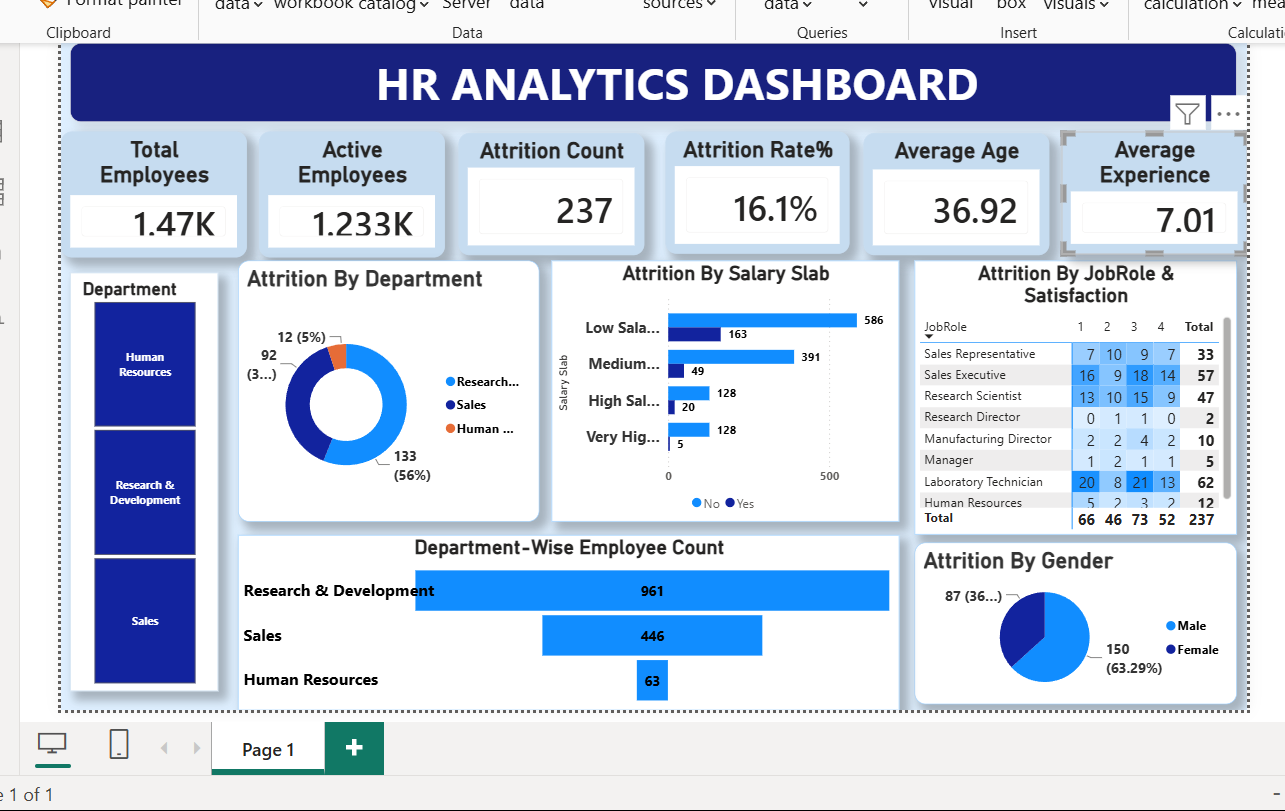

What the dashboard file says about the page in this screenshot:
{"tool":"powerbi","page":{"name":"Page 1","canvas":[1280,720],"ordinal":0},"visuals":[{"type":"textbox","box":[10,0,1259,85],"z":0},{"type":"cardVisual","title":"Total Employees","fields":{"Data":["CountNonNull(HR_Project_Power BI.EmployeeNumber)"]},"box":[0,94.8,200.8,135.7],"z":1000},{"type":"cardVisual","title":"Active Employees","fields":{"Data":["CountNonNull(HR_Project_Power BI.EmployeeCount)"]},"box":[213.9,94.8,200.8,135.7],"z":2000},{"type":"cardVisual","title":"Attrition Count","fields":{"Data":["Sum(HR_Project_Power BI.AttritionCount)"]},"box":[438.9,98.6,200.8,132],"z":3000},{"type":"cardVisual","title":"Attrition Rate%","fields":{"Data":["HR_Project_Power BI.Attrition Rate %"]},"box":[652.7,100.4,199,132],"z":4000},{"type":"cardVisual","title":"Average Age","fields":{"Data":["Avg(HR_Project_Power BI.Age)"]},"box":[866.6,96.7,200.8,132],"z":5000},{"type":"cardVisual","title":"Average Experience","fields":{"Data":["Avg(HR_Project_Power BI.YearsAtCompany)"]},"box":[1078.6,96.7,200.8,132],"z":6000},{"type":"donutChart","title":"Attrition By Department","fields":{"Category":["HR_Project_Power BI.Department"],"Y":["Sum(HR_Project_Power BI.AttritionCount)"]},"box":[191.1,234.8,325.5,281.7],"z":7000},{"type":"clusteredBarChart","title":"Attrition By Salary Slab","fields":{"Category":["HR_Project_Power BI.Salary Slab"],"Y":["CountNonNull(HR_Project_Power BI.EmployeeNumber)"],"Series":["HR_Project_Power BI.Attrition"]},"box":[529.5,234.8,375.7,281.7],"z":8000},{"type":"pivotTable","title":"Attrition By JobRole & Satisfaction","fields":{"Rows":["HR_Project_Power BI.JobRole"],"Values":["Sum(HR_Project_Power BI.AttritionCount)"],"Columns":["HR_Project_Power BI.JobSatisfaction"]},"box":[921.3,234.8,348.1,296.3],"z":9000},{"type":"pieChart","title":"Attrition By Gender","fields":{"Category":["HR_Project_Power BI.Gender"],"Y":["Sum(HR_Project_Power BI.AttritionCount)"]},"box":[921.3,539.2,348.1,174.9],"z":10000},{"type":"funnel","title":"Department-Wise Employee Count","fields":{"Category":["HR_Project_Power BI.Department"],"Y":["CountNonNull(HR_Project_Power BI.EmployeeNumber)"]},"box":[191.1,531.1,714.1,189.4],"z":11000},{"type":"slicer","fields":{"Values":["HR_Project_Power BI.Department"]},"box":[9.7,247.7,160.3,451.8],"z":12000}]}

Visuals, with their boxes on the page's 1280x720 design canvas (x1, y1, x2, y2). These are canvas units, not pixel positions in the 1285x811 screenshot, which may show the page scaled, cropped or inside an application window:
textbox: [10, 0, 1269, 85]
"Total Employees" cardVisual: [0, 95, 201, 230]
"Active Employees" cardVisual: [214, 95, 415, 230]
"Attrition Count" cardVisual: [439, 99, 640, 231]
"Attrition Rate%" cardVisual: [653, 100, 852, 232]
"Average Age" cardVisual: [867, 97, 1067, 229]
"Average Experience" cardVisual: [1079, 97, 1279, 229]
"Attrition By Department" donutChart: [191, 235, 517, 516]
"Attrition By Salary Slab" clusteredBarChart: [530, 235, 905, 516]
"Attrition By JobRole & Satisfaction" pivotTable: [921, 235, 1269, 531]
"Attrition By Gender" pieChart: [921, 539, 1269, 714]
"Department-Wise Employee Count" funnel: [191, 531, 905, 720]
slicer - HR_Project_Power BI.Department: [10, 248, 170, 700]
